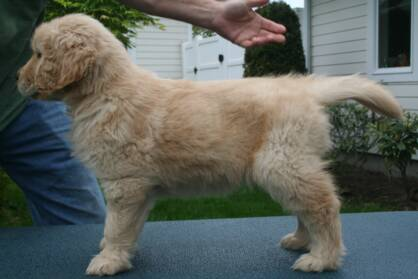dog: (15, 13, 404, 270)
